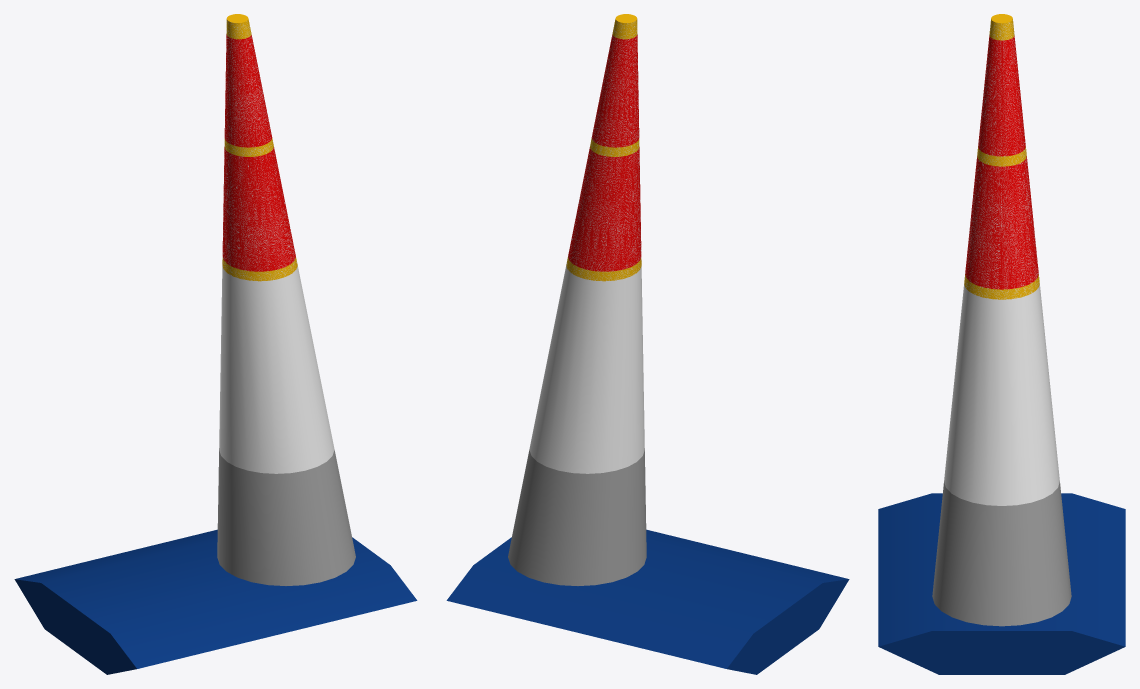
Rendered from SinglePylonGate.dae.
3 views of the same model, side by side, from view 1: azimuth 30°, elevation 25°; view 2: azimuth 150°, elevation 25°; view 3: azimuth 270°, elevation 25° (orthographic).
Parts seen in each view (by area): view 1: SingleGate, Difference1, Intersection, group_4, group_3, group_0; view 2: SingleGate, Difference1, Intersection, group_4, group_3, group_0; view 3: SingleGate, Difference1, Intersection, group_4, group_3, group_0, group_2, group_1.
Boxes of the visible parts, x1,y1,x2,y2 form: SingleGate: (14,529,417,674); Difference1: (219,266,334,473); Intersection: (217,450,355,585); group_4: (222,147,295,271); group_3: (224,34,272,147); group_0: (222,257,297,281); SingleGate: (446,529,849,674); Difference1: (529,266,644,473); Intersection: (508,450,646,585); group_4: (568,147,641,271); group_3: (591,34,639,147); group_0: (566,257,641,281); SingleGate: (878,493,1125,674); Difference1: (944,284,1059,505); Intersection: (932,482,1071,626); group_4: (965,156,1038,289); group_3: (978,35,1025,156); group_0: (964,274,1039,299); group_2: (977,146,1026,166); group_1: (989,19,1014,40).
Bounding box in the file's own units: 475 × 360 × 961.
